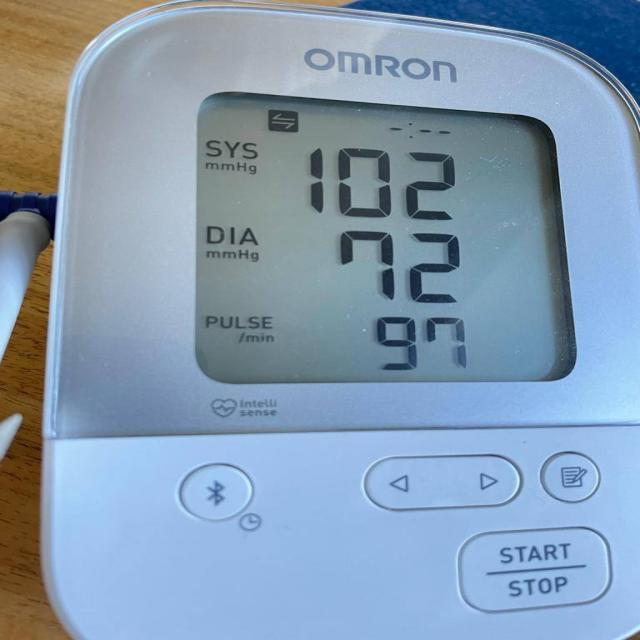bp: (39, 2, 639, 639)
